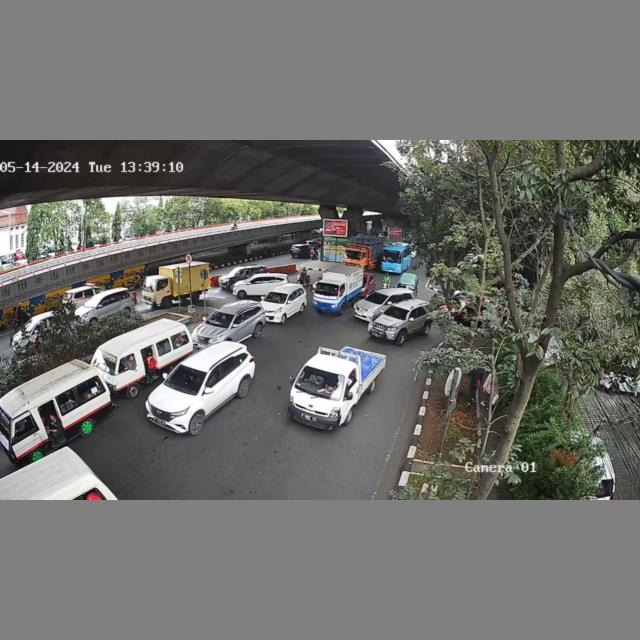windshield: (295, 364, 345, 399), (166, 365, 205, 392), (90, 349, 118, 378), (313, 282, 341, 297), (206, 312, 235, 326), (363, 290, 389, 304), (384, 306, 408, 320), (267, 292, 288, 302)
